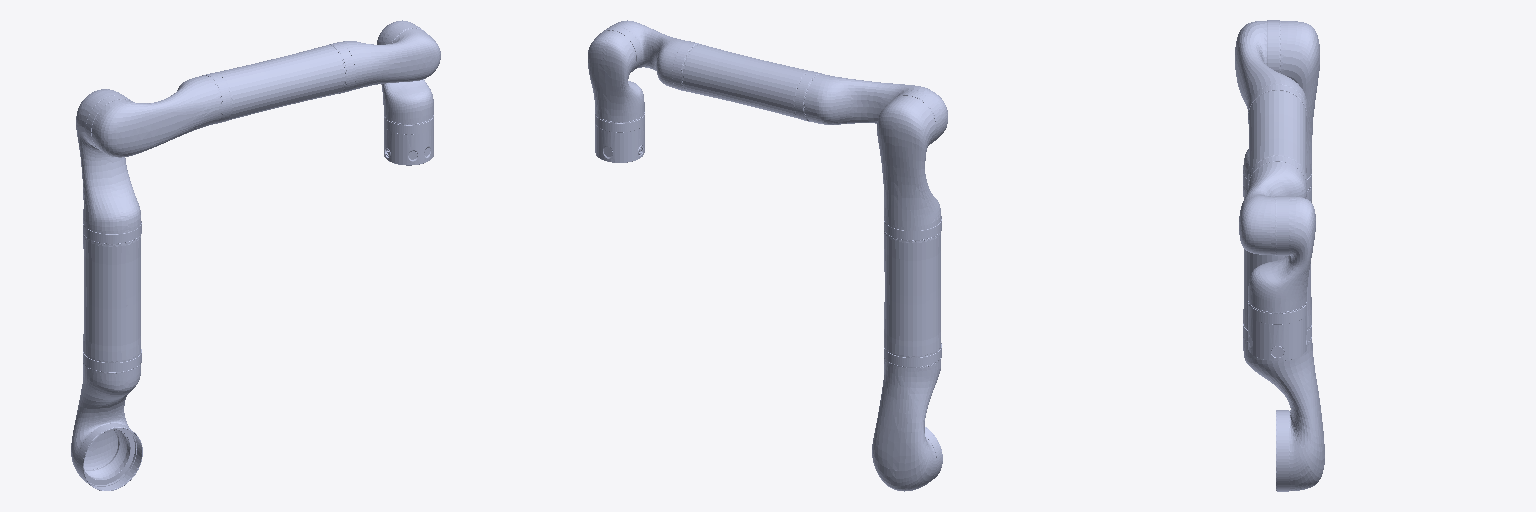
robot.urdf — tcb605l:
<?xml version="1.0" encoding="utf-8"?>
<!-- This URDF was automatically created by SolidWorks to URDF Exporter! Originally created by Stephen Brawner (brawner@gmail.com) 
     Commit Version: 1.6.0-4-g7f85cfe  Build Version: 1.6.7995.38578
     For more information, please see http://wiki.ros.org/sw_urdf_exporter -->
<robot
  name="tcb605l">
  <mujoco>
    <compiler
      meshdir="../meshes/"
      discardvisual="false"
    />
  </mujoco>
  <link
    name="link0">
    <inertial>
      <origin
        xyz="-0.0020391678669849 0.000208461233542916 0.0437970464318419"
        rpy="0 0 0" />
      <mass
        value="0.230943297728627" />
      <inertia
        ixx="0.000578857931988587"
        ixy="2.49644295158412E-06"
        ixz="-3.62761994221811E-06"
        iyy="0.000597326060992721"
        iyz="8.87603974516218E-07"
        izz="0.000630268815467399" />
    </inertial>
    <visual>
      <origin
        xyz="0 0 0"
        rpy="0 0 0" />
      <geometry>
        <mesh
          filename="package://tl_description/meshes/tcb605l/link0.STL" />
      </geometry>
      <material
        name="">
        <color
          rgba="0.792156862745098 0.819607843137255 0.933333333333333 1" />
      </material>
    </visual>
    <collision>
      <origin
        xyz="0 0 0"
        rpy="0 0 0" />
      <geometry>
        <mesh
          filename="package://tl_description/meshes/tcb605l/link0.STL" />
      </geometry>
    </collision>
  </link>
  <link
    name="link1">
    <inertial>
      <origin
        xyz="-2.82592835967467E-06 -0.0149440554612562 0.0760738628611229"
        rpy="0 0 0" />
      <mass
        value="0.188795049535535" />
      <inertia
        ixx="0.000644330974536614"
        ixy="5.55804168466963E-08"
        ixz="-5.40921744937873E-08"
        iyy="0.000669839544820847"
        iyz="0.000101917330586459"
        izz="0.000292784373513458" />
    </inertial>
    <visual>
      <origin
        xyz="0 0 0"
        rpy="0 0 0" />
      <geometry>
        <mesh
          filename="package://tl_description/meshes/tcb605l/link1.STL" />
      </geometry>
      <material
        name="">
        <color
          rgba="0.792156862745098 0.819607843137255 0.933333333333333 1" />
      </material>
    </visual>
    <collision>
      <origin
        xyz="0 0 0"
        rpy="0 0 0" />
      <geometry>
        <mesh
          filename="package://tl_description/meshes/tcb605l/link1.STL" />
      </geometry>
    </collision>
  </link>
  <joint
    name="joint1"
    type="revolute">
    <origin
      xyz="0 0 0.12215"
      rpy="0 0 0" />
    <parent
      link="link0" />
    <child
      link="link1" />
    <axis
      xyz="0 0 1" />
    <limit
      lower="-3.1226"
      upper="3.1226"
      effort="0"
      velocity="0" />
  </joint>
  <link
    name="link2">
    <inertial>
      <origin
        xyz="-1.94339017576339E-06 0.253141084131434 -0.00221954159481742"
        rpy="0 0 0" />
      <mass
        value="0.697362175861507" />
      <inertia
        ixx="0.0148340159046899"
        ixy="-5.08235530092247E-07"
        ixz="3.15104179556928E-08"
        iyy="0.000910925446251546"
        iyz="-0.000125255790475071"
        izz="0.0148212951328786" />
    </inertial>
    <visual>
      <origin
        xyz="0 0 0"
        rpy="0 0 0" />
      <geometry>
        <mesh
          filename="package://tl_description/meshes/tcb605l/link2.STL" />
      </geometry>
      <material
        name="">
        <color
          rgba="0.792156862745098 0.819607843137255 0.933333333333333 1" />
      </material>
    </visual>
    <collision>
      <origin
        xyz="0 0 0"
        rpy="0 0 0" />
      <geometry>
        <mesh
          filename="package://tl_description/meshes/tcb605l/link2.STL" />
      </geometry>
    </collision>
  </link>
  <joint
    name="joint2"
    type="revolute">
    <origin
      xyz="0 0.00665 0.14085"
      rpy="1.5708 0 0" />
    <parent
      link="link1" />
    <child
      link="link2" />
    <axis
      xyz="0 0 1" />
    <limit
      lower="-2.3562"
      upper="2.3562"
      effort="0"
      velocity="0" />
  </joint>
  <link
    name="link3">
    <inertial>
      <origin
        xyz="-4.69148455306545E-07 -0.190684806709497 0.00158652549799798"
        rpy="0 0 0" />
      <mass
        value="0.422517098558124" />
      <inertia
        ixx="0.00489098687084274"
        ixy="9.20914898981877E-08"
        ixz="-2.34052223041439E-09"
        iyy="0.000427800351186884"
        iyz="-0.000428033476943158"
        izz="0.00487247003851571" />
    </inertial>
    <visual>
      <origin
        xyz="0 0 0"
        rpy="0 0 0" />
      <geometry>
        <mesh
          filename="package://tl_description/meshes/tcb605l/link3.STL" />
      </geometry>
      <material
        name="">
        <color
          rgba="0.792156862745098 0.819607843137255 0.933333333333333 1" />
      </material>
    </visual>
    <collision>
      <origin
        xyz="0 0 0"
        rpy="0 0 0" />
      <geometry>
        <mesh
          filename="package://tl_description/meshes/tcb605l/link3.STL" />
      </geometry>
    </collision>
  </link>
  <joint
    name="joint3"
    type="revolute">
    <origin
      xyz="0 0.5195 0.0118"
      rpy="0 0 1.5708" />
    <parent
      link="link2" />
    <child
      link="link3" />
    <axis
      xyz="0 0 1" />
    <limit
      lower="-0.9520"
      upper="4.0666"
      effort="0"
      velocity="0" />
  </joint>
  <link
    name="link4">
    <inertial>
      <origin
        xyz="-5.11147097526088E-06 0.0131445602959471 0.0626746041112599"
        rpy="0 0 0" />
      <mass
        value="0.089981785444508" />
      <inertia
        ixx="0.000204808493971436"
        ixy="1.16214684082062E-08"
        ixz="4.0766416150754E-08"
        iyy="0.000207969740506297"
        iyz="-3.60478124270326E-05"
        izz="7.75189771422492E-05" />
    </inertial>
    <visual>
      <origin
        xyz="0 0 0"
        rpy="0 0 0" />
      <geometry>
        <mesh
          filename="package://tl_description/meshes/tcb605l/link4.STL" />
      </geometry>
      <material
        name="">
        <color
          rgba="0.792156862745098 0.819607843137255 0.933333333333333 1" />
      </material>
    </visual>
    <collision>
      <origin
        xyz="0 0 0"
        rpy="0 0 0" />
      <geometry>
        <mesh
          filename="package://tl_description/meshes/tcb605l/link4.STL" />
      </geometry>
    </collision>
  </link>
  <joint
    name="joint4"
    type="revolute">
    <origin
      xyz="0 -0.36715 -0.00515"
      rpy="1.5708 0 0" />
    <parent
      link="link3" />
    <child
      link="link4" />
    <axis
      xyz="0 0 1" />
    <limit
      lower="-3.1226"
      upper="3.1226"
      effort="0"
      velocity="0" />
  </joint>
  <link
    name="link5">
    <inertial>
      <origin
        xyz="-0.039870731260048 1.29749997213602E-05 0.00873816110129568"
        rpy="0 0 0" />
      <mass
        value="0.091526676841716" />
      <inertia
        ixx="8.07130413911811E-05"
        ixy="-3.62631341381651E-08"
        ixz="-3.15887030570653E-05"
        iyy="0.000167005961446342"
        iyz="-1.27355290311692E-08"
        izz="0.000170834721676786" />
    </inertial>
    <visual>
      <origin
        xyz="0 0 0"
        rpy="0 0 0" />
      <geometry>
        <mesh
          filename="package://tl_description/meshes/tcb605l/link5.STL" />
      </geometry>
      <material
        name="">
        <color
          rgba="0.792156862745098 0.819607843137255 0.933333333333333 1" />
      </material>
    </visual>
    <collision>
      <origin
        xyz="0 0 0"
        rpy="0 0 0" />
      <geometry>
        <mesh
          filename="package://tl_description/meshes/tcb605l/link5.STL" />
      </geometry>
    </collision>
  </link>
  <joint
    name="joint5"
    type="revolute">
    <origin
      xyz="0 -0.00615 0.11335"
      rpy="1.5708 0 0" />
    <parent
      link="link4" />
    <child
      link="link5" />
    <axis
      xyz="0 0 1" />
    <limit
      lower="-3.8921"
      upper="0.7505"
      effort="0"
      velocity="0" />
  </joint>
  <link
    name="link6">
    <inertial>
      <origin
        xyz="-0.000389397483902154 8.96781080010568E-05 -0.0228822715391922"
        rpy="0 0 0" />
      <mass
        value="0.0756964619250675" />
      <inertia
        ixx="5.73362606963598E-05"
        ixy="-1.00642155309535E-08"
        ixz="3.24157447134711E-07"
        iyy="5.7604236900784E-05"
        iyz="-1.43757554651599E-08"
        izz="7.09157247335588E-05" />
    </inertial>
    <visual>
      <origin
        xyz="0 0 0"
        rpy="0 0 0" />
      <geometry>
        <mesh
          filename="package://tl_description/meshes/tcb605l/link6.STL" />
      </geometry>
      <material
        name="">
        <color
          rgba="0.792156862745098 0.819607843137255 0.933333333333333 1" />
      </material>
    </visual>
    <collision>
      <origin
        xyz="0 0 0"
        rpy="0 0 0" />
      <geometry>
        <mesh
          filename="package://tl_description/meshes/tcb605l/link6.STL" />
      </geometry>
    </collision>
  </link>
  <joint
    name="joint6"
    type="revolute">
    <origin
      xyz="-0.1615 0 -0.00615"
      rpy="-1.5708 0 1.5708" />
    <parent
      link="link5" />
    <child
      link="link6" />
    <axis
      xyz="0 0 1" />
    <limit
      lower="-3.1226"
      upper="3.1226"
      effort="0"
      velocity="0" />
  </joint>
</robot>

--- Render facts (derived) ---
The picture shows the robot from 3 angles, left to right: view 1: azimuth 30°, elevation 25°; view 2: azimuth 150°, elevation 25°; view 3: azimuth 270°, elevation 25°; orthographic projection.
Robot: tcb605l — 7 links, 6 joints (6 revolute); root link link0; default pose: all joints at 0.
Visible links, largest first — view 1: link2, link3, link4, link5, link6; view 2: link2, link3, link5, link4, link6; view 3: link2, link3, link5, link4, link6.
Link boxes in pixels (x1,y1,x2,y2): link2: (71,89,142,490); link3: (85,45,345,157); link4: (329,28,440,93); link5: (377,20,433,123); link6: (384,115,433,165); link2: (872,96,942,491); link3: (682,44,947,143); link5: (588,26,644,121); link4: (610,20,698,91); link6: (595,112,644,162); link2: (1243,21,1324,491); link3: (1235,20,1306,176); link5: (1248,196,1315,311); link4: (1239,156,1306,254); link6: (1248,301,1306,360).
Bounding box of the posed robot: 0.5643 × 0.1071 × 0.6093 m (x, y, z).
5 mesh visuals loaded from 7 distinct referenced files (5 binary STL); not drawn: 2 (reference not matched to a file when rendering).
